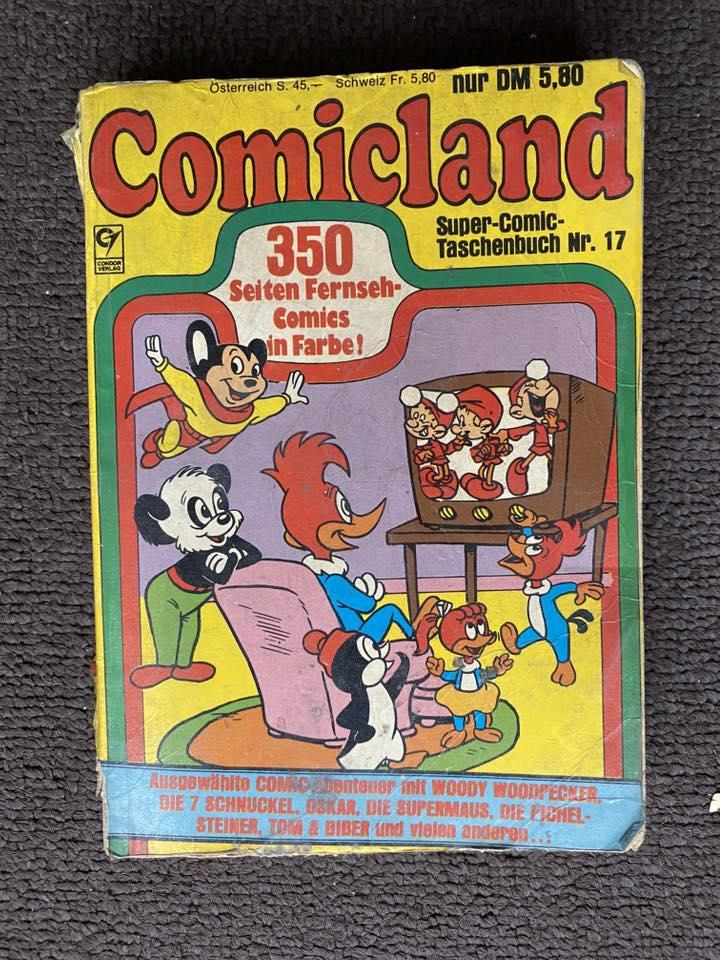comic: (65, 59, 679, 874)
